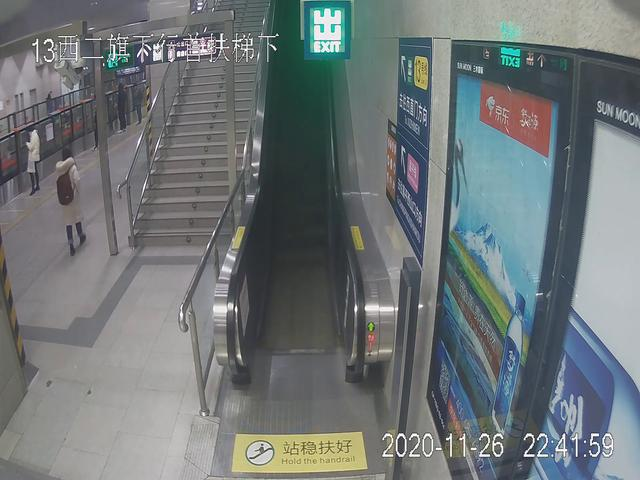person: (56, 147, 92, 253), (25, 125, 43, 198), (114, 81, 133, 132)
